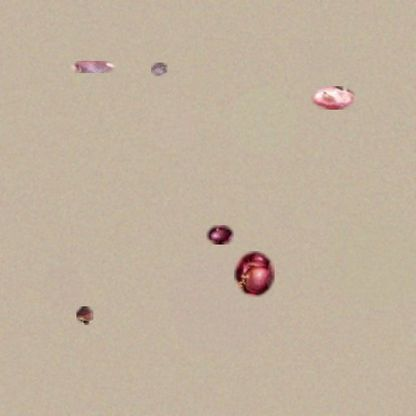healthy: (234, 251, 275, 297), (206, 225, 234, 245)
rotten: (311, 86, 356, 110), (71, 61, 115, 73), (151, 63, 167, 76)
sprouted: (76, 306, 93, 325)
